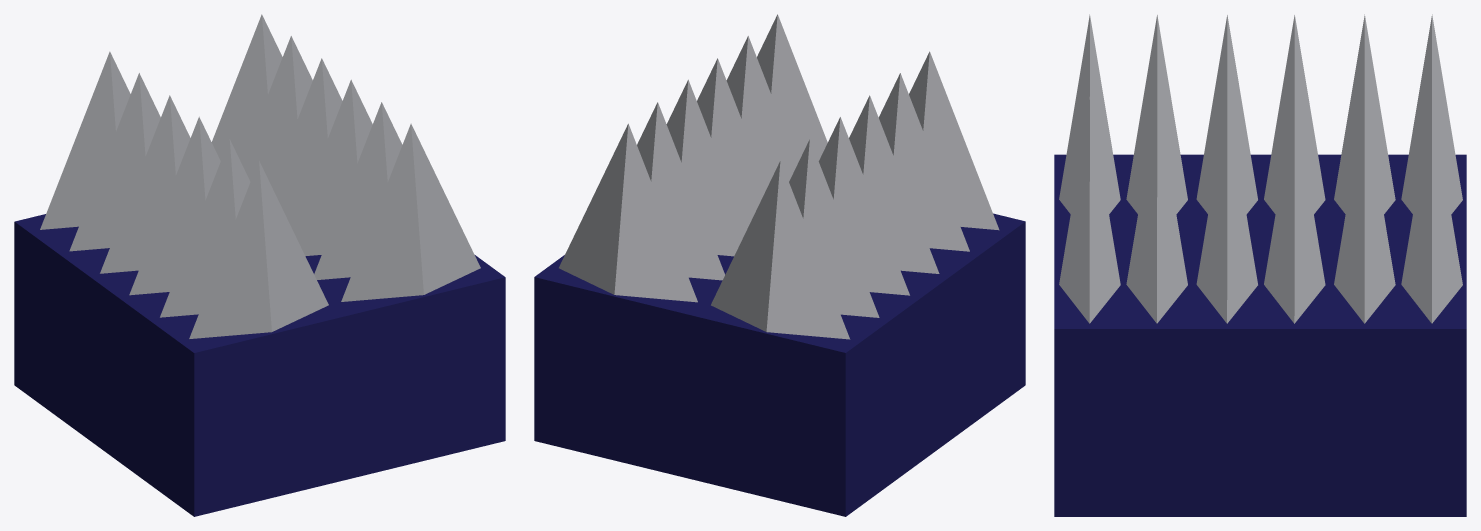
Rendered from Needle_Large.obj.
The picture shows the model from 3 angles, left to right: view 1: azimuth 30°, elevation 25°; view 2: azimuth 150°, elevation 25°; view 3: azimuth 270°, elevation 25°; orthographic projection. The views are drawn at different scales.
Parts seen in each view (by area): view 1: Cube; view 2: Cube; view 3: Cube.
Boxes of the visible parts, x1,y1,x2,y2 form: Cube: [14, 14, 505, 516]; Cube: [534, 14, 1025, 516]; Cube: [1054, 14, 1466, 516].
Size of the model in its own units: 1 by 1 by 1.
1 material, 1 textured.
